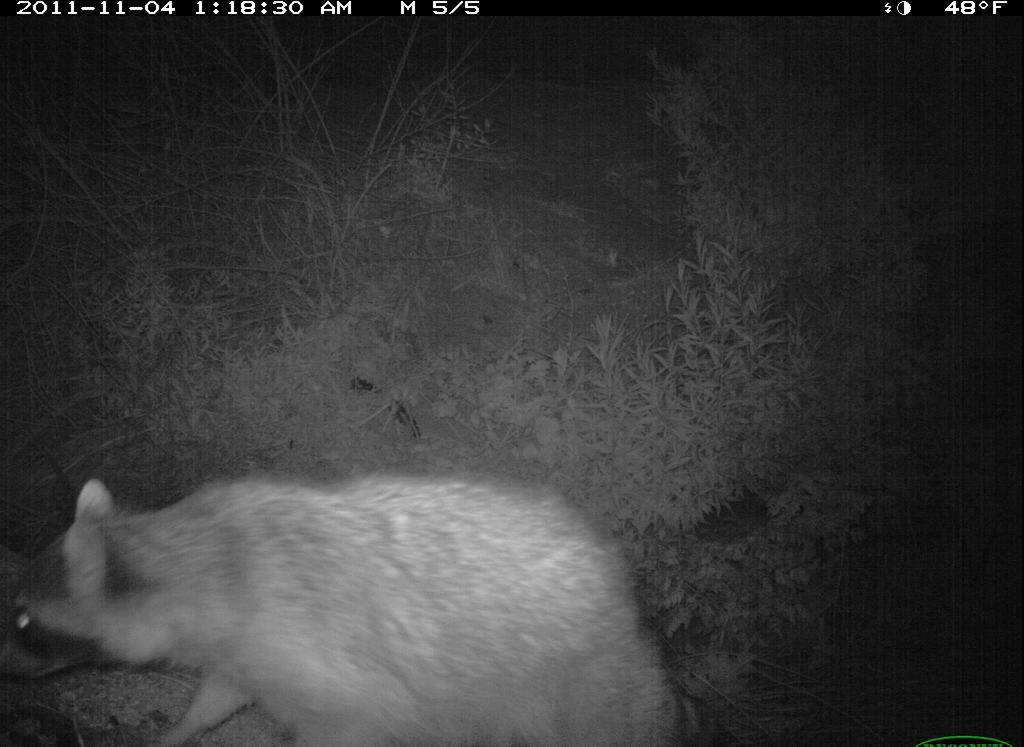raccoon: (7, 457, 690, 747)
